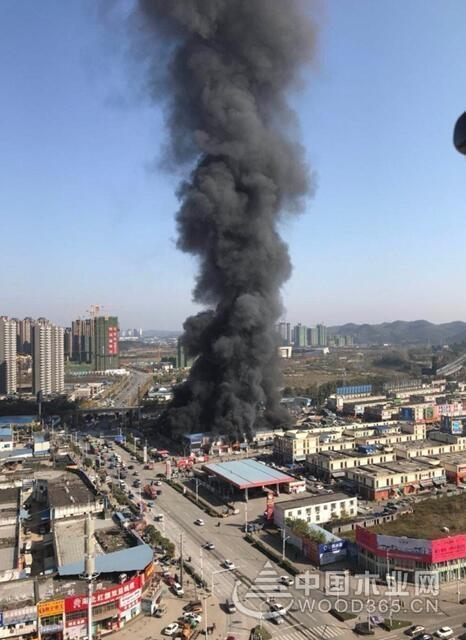smoke: (144, 19, 310, 432)
